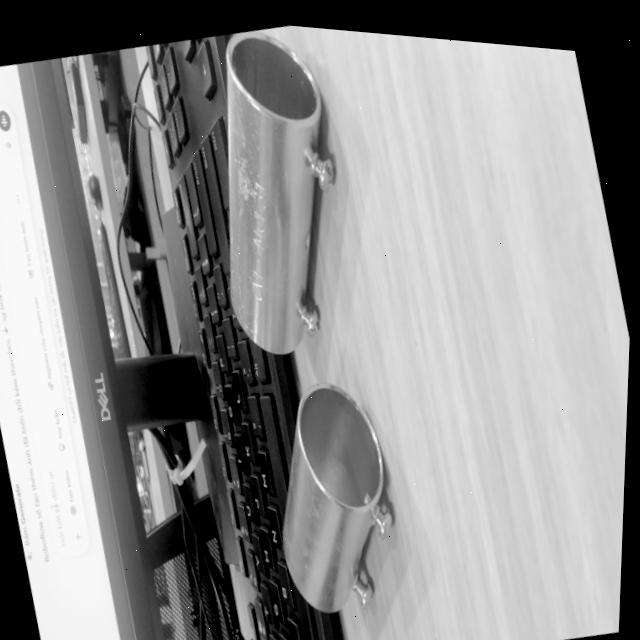Co_Lon: (226, 29, 332, 355)
Co_Nho: (276, 379, 405, 616)
